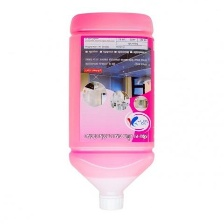cleaning_solution: (65, 9, 156, 215)
